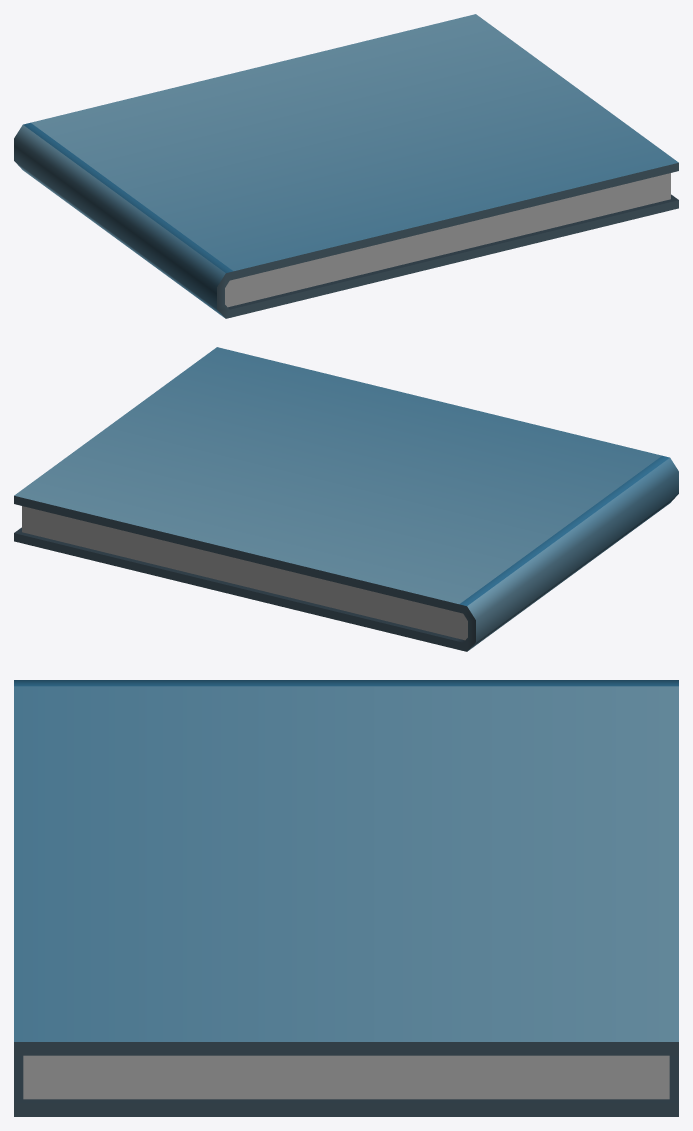
The model's file is human-household-items-book_v4.glb.
3 renders of one model, top to bottom at view 1: azimuth 30°, elevation 25°; view 2: azimuth 150°, elevation 25°; view 3: azimuth 270°, elevation 25°, orthographic. The views are drawn at different scales.
Visible parts, largest first — view 1: Book_v4; view 2: Book_v4; view 3: Book_v4.
Boxes of the visible parts, x1=… form: Book_v4: x1=14, y1=14, x2=678, y2=318; Book_v4: x1=14, y1=347, x2=678, y2=651; Book_v4: x1=14, y1=680, x2=678, y2=1116.
Bounding box in the file's own units: 0.25 × 0.0236 × 0.1904.
